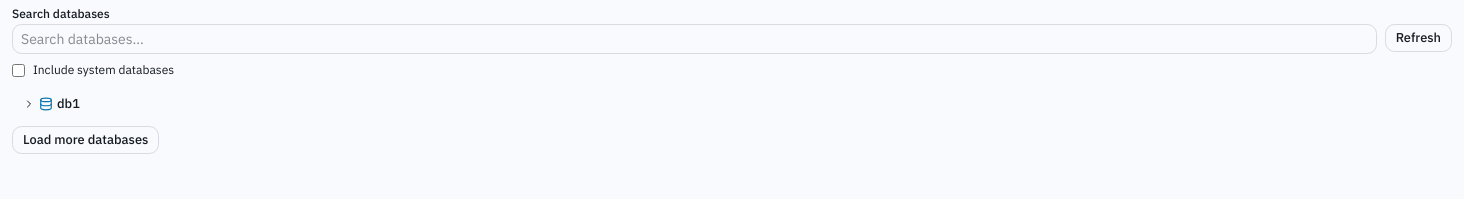
Test: QueryObjectExplorer search and pagination › requests page 2 and appends databases in server order on Load more click
expect the button "db1" is shown: met, box [12, 90, 1452, 118]
Click the button "Load more databases".
click(86, 140)  # box [12, 126, 159, 154]
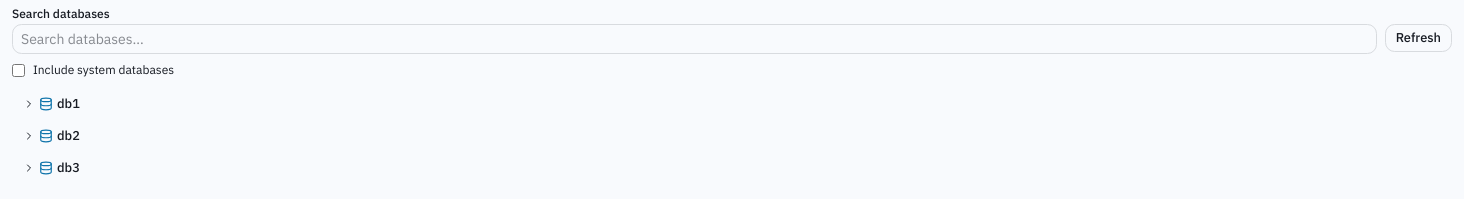
expect the number of buttons "db1" is 3: met, box [12, 90, 1452, 118]; [12, 122, 1452, 150]; [12, 154, 1452, 182]
expect the button "db2" is shown: met, box [12, 122, 1452, 150]
expect the button "db3" is shown: met, box [12, 154, 1452, 182]
